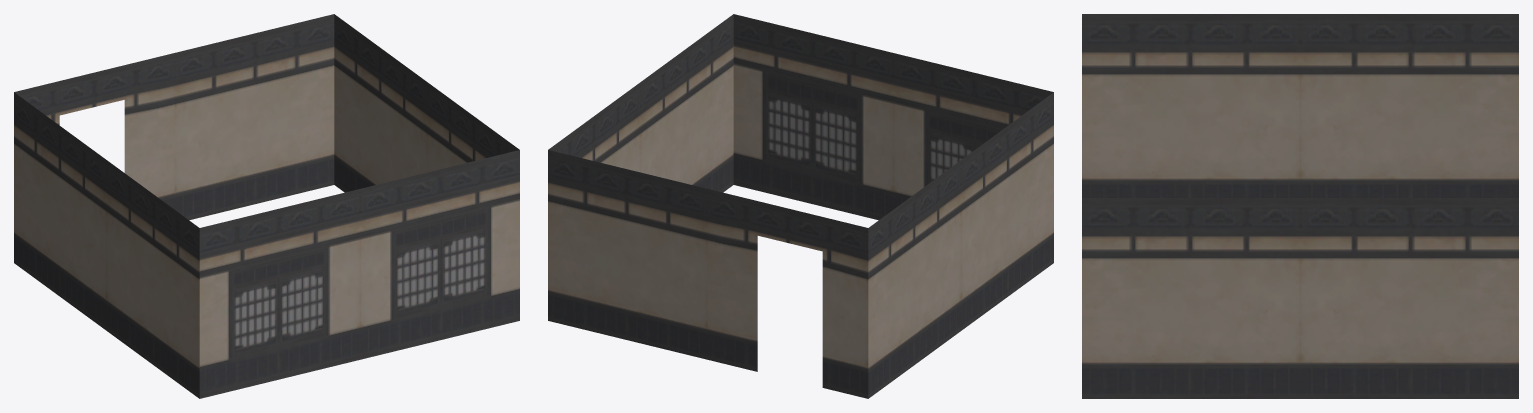
Rendered from Homeworld_Interior_Dq_Room_H_Filling_01_Vo.fbx.
3 renders of one model, left to right at view 1: azimuth 30°, elevation 25°; view 2: azimuth 150°, elevation 25°; view 3: azimuth 270°, elevation 25°, orthographic. The views are drawn at different scales.
Visible parts, largest first — view 1: Homeworld_Interior_Dq_Room_H_Filling_01_Vo; view 2: Homeworld_Interior_Dq_Room_H_Filling_01_Vo; view 3: Homeworld_Interior_Dq_Room_H_Filling_01_Vo.
Part boxes in pixels (x1,y1,x2,y2): Homeworld_Interior_Dq_Room_H_Filling_01_Vo: [14, 14, 519, 398]; Homeworld_Interior_Dq_Room_H_Filling_01_Vo: [548, 14, 1053, 398]; Homeworld_Interior_Dq_Room_H_Filling_01_Vo: [1082, 14, 1518, 398].
Bounding box in the file's own units: 9.77 × 4.98 × 9.81.
